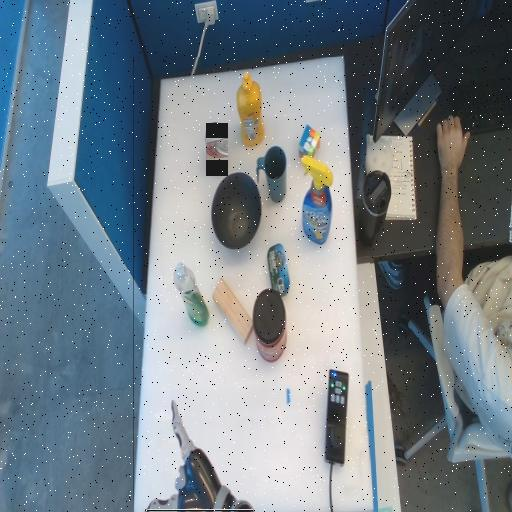bowl: (213, 175, 261, 249)
cleanser: (174, 264, 209, 326)
coffee_can: (254, 291, 286, 362)
jaco: (145, 403, 253, 510)
meat_can: (268, 245, 289, 296)
mug: (257, 147, 286, 202)
mustard_bottle: (238, 97, 263, 122)
rubik: (299, 125, 320, 159)
soup_can: (206, 138, 227, 159)
windex: (302, 157, 333, 244)
wooden_block: (212, 292, 253, 332)
workspace: (134, 57, 370, 509)
